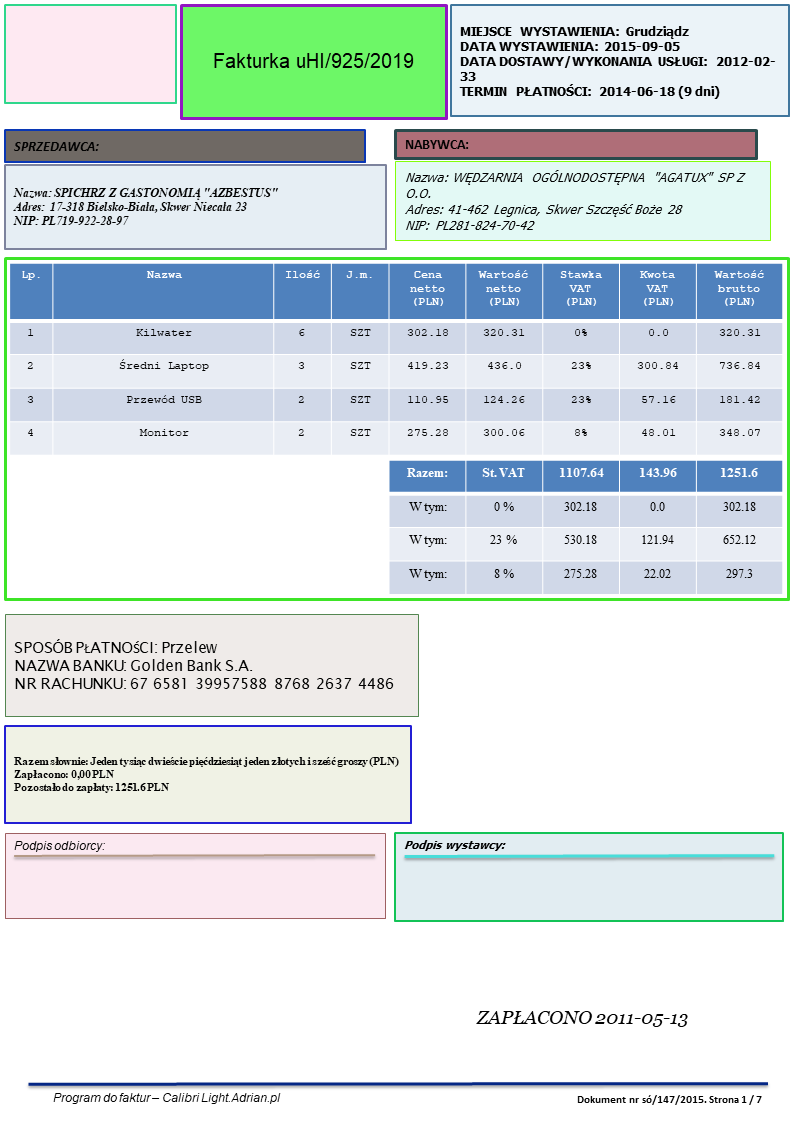Table: (8, 261, 783, 457), (388, 459, 784, 597)
TextBox: (457, 22, 779, 101), (402, 168, 749, 235), (11, 637, 396, 695), (11, 752, 401, 794), (11, 183, 281, 229), (474, 1005, 689, 1032), (210, 49, 417, 73), (51, 1087, 283, 1108), (575, 1091, 763, 1108), (402, 835, 507, 856), (11, 836, 106, 855), (10, 136, 102, 155), (402, 135, 470, 154)
